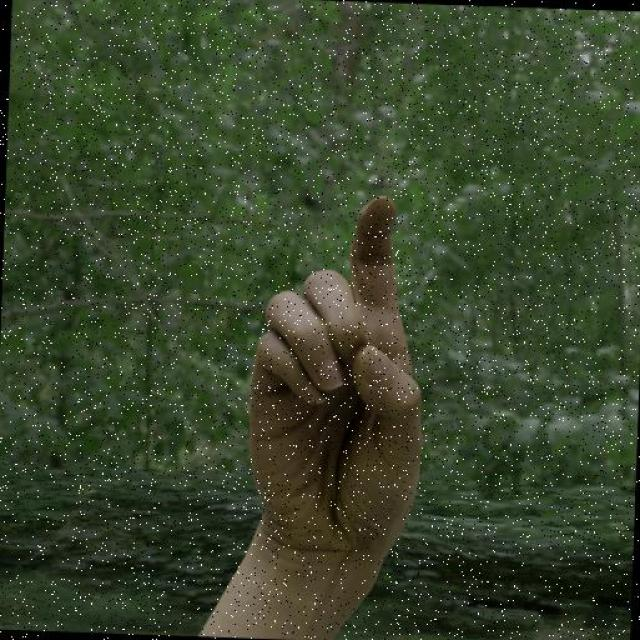X: (225, 183, 435, 581)
